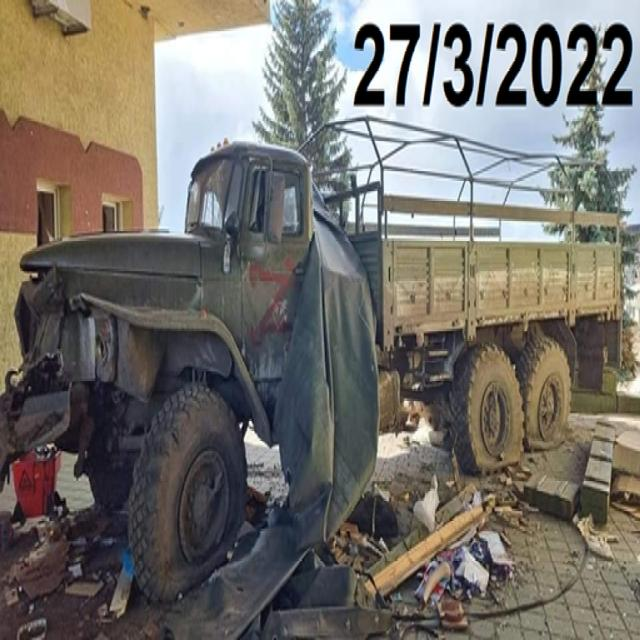TRUCK: (0, 104, 622, 611)
